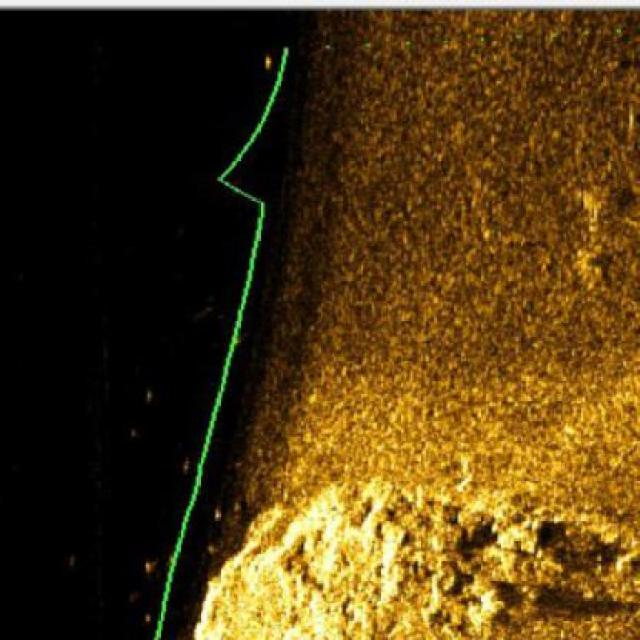bedrock group: (193, 478, 639, 639)
